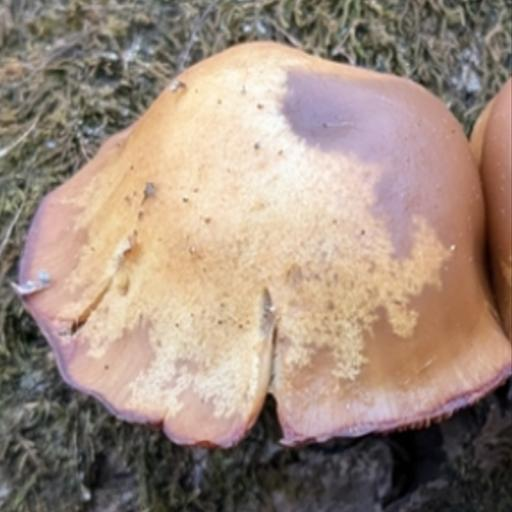mushroom: (24, 36, 498, 444)
